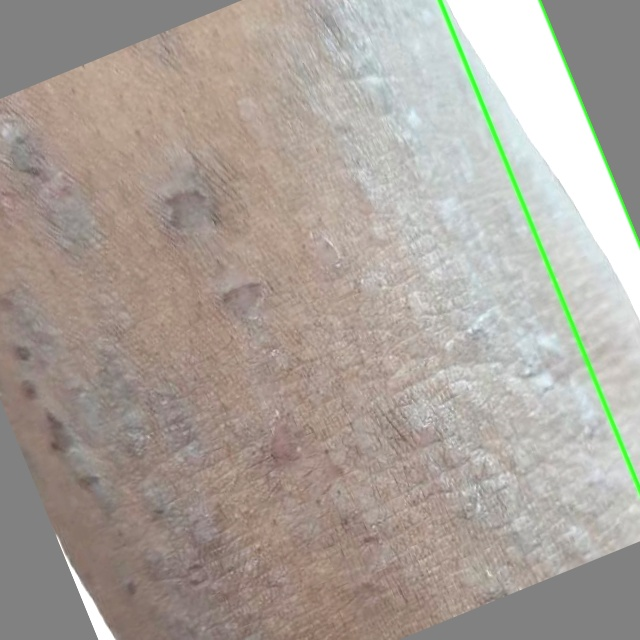Atopic Dermatitis: (439, 0, 639, 489)
